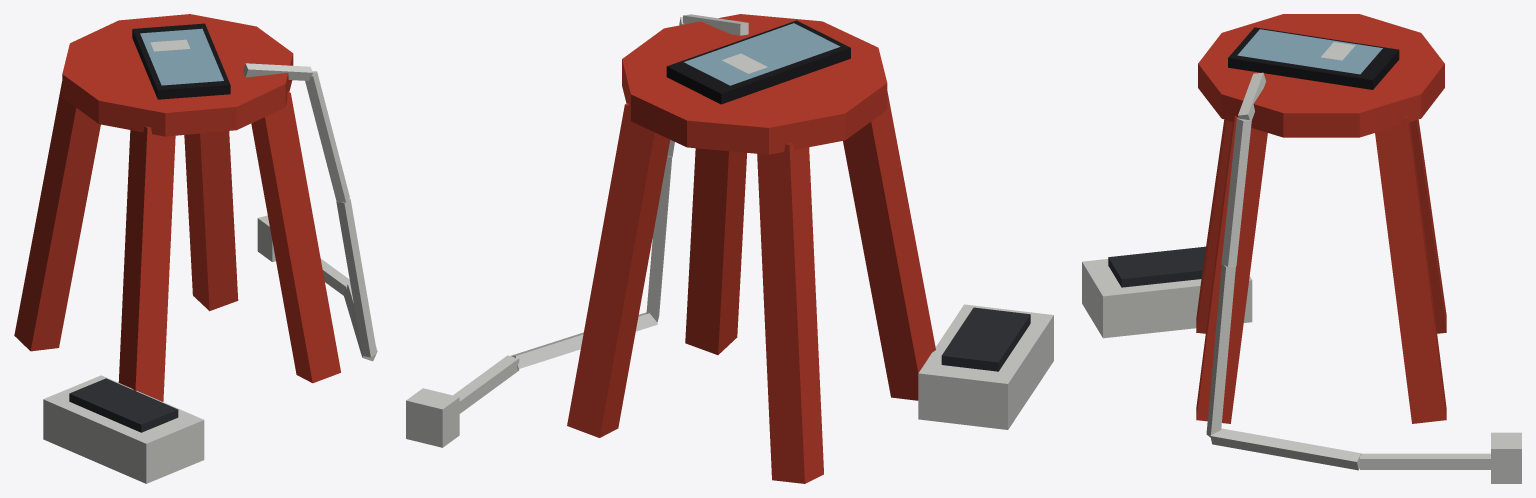
The model's file is prop_phone.b4f34c33839f.glb.
The picture shows the model from 3 angles, left to right: view 1: azimuth 30°, elevation 25°; view 2: azimuth 150°, elevation 25°; view 3: azimuth 270°, elevation 25°; orthographic projection. The views are drawn at different scales.
Parts seen in each view (by area): view 1: body; view 2: body; view 3: body.
Boxes of the visible parts, x1,y1,x2,y2 form: body: [14, 14, 377, 483]; body: [406, 14, 1053, 483]; body: [1082, 14, 1521, 483].
Size of the model in its own units: 0.603 by 0.468 by 0.5705.
